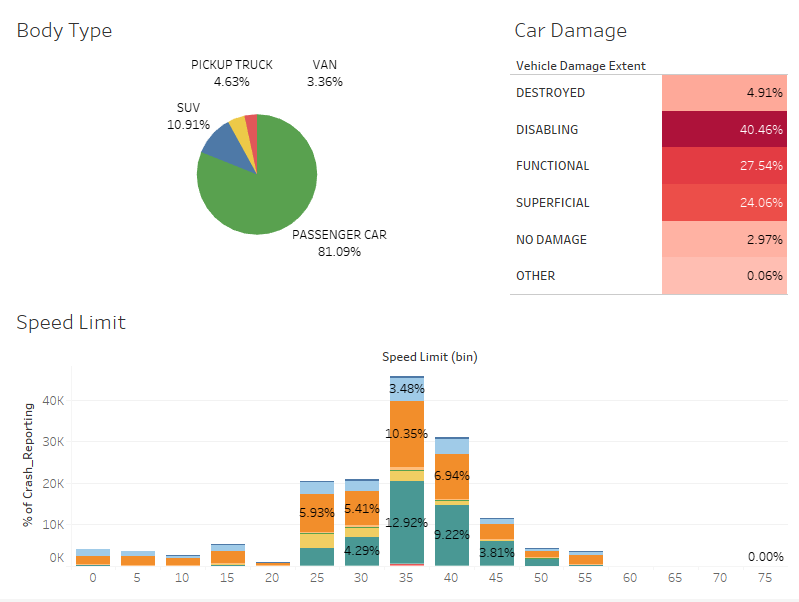

Layout of this report page (visuals, bound fields, positions):
{"tool":"tableau","page":{"name":"Vehicle DB","canvas":[800,600],"ordinal":2},"visuals":[{"type":"worksheet","title":"car type","mark":"Pie","box":[8,8,498,292]},{"type":"worksheet","title":"car damage","mark":"Square","rows":["Vehicle Damage Extent"],"box":[506,8,286,292]},{"type":"worksheet","title":"speed limit","mark":"Bar","rows":["Crash!Reporting!-!Drivers!Data_267D791D6EA04D1FAE07A9C55C215"],"cols":["Speed Limit (bin)"],"box":[8,300,784,292]}]}

Visuals, with their boxes in screenshot pixels (x1, y1, x2, y2), scaled from the page's 800x600 canvas onto the 799x602 screenshot:
"car type" worksheet (Pie marks): bbox=(8, 8, 505, 301)
"car damage" worksheet (Square marks): bbox=(505, 8, 791, 301)
"speed limit" worksheet (Bar marks): bbox=(8, 301, 791, 594)
